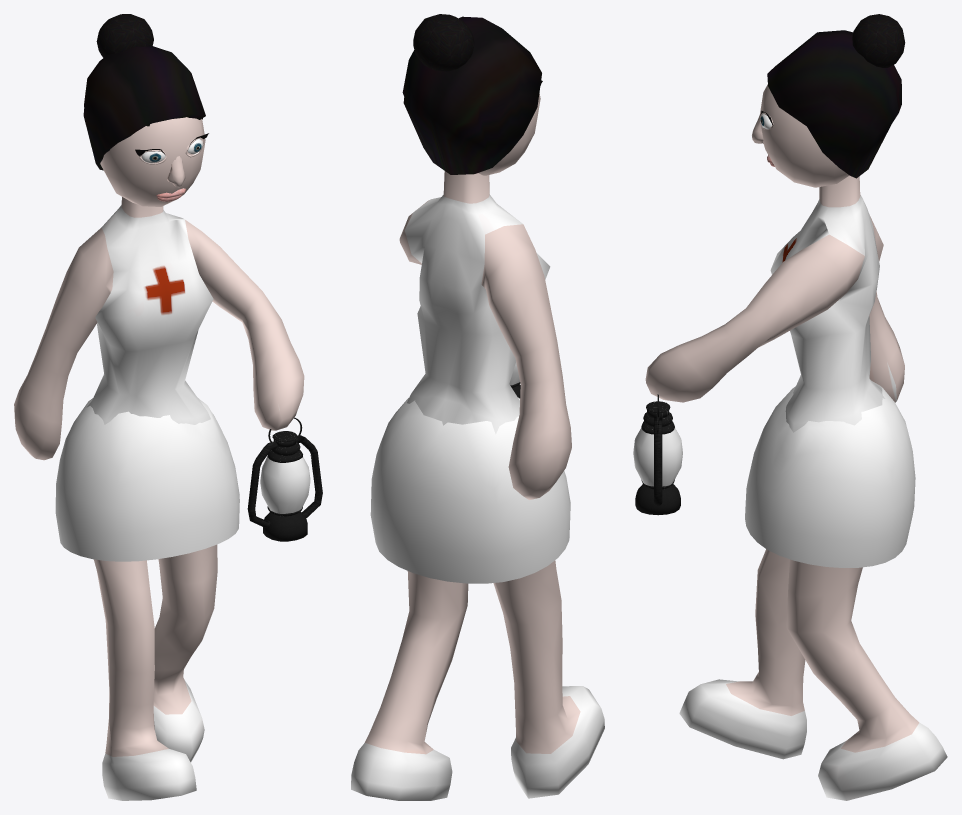
File: walking_000014.obj
The picture shows the model from 3 angles, left to right: view 1: azimuth 30°, elevation 25°; view 2: azimuth 150°, elevation 25°; view 3: azimuth 270°, elevation 25°; orthographic projection. The views are drawn at different scales.
Parts seen in each view (by area): view 1: Cube_Cube.001, Cube.001_Cube, Cube.004; view 2: Cube_Cube.001, Cube.001_Cube; view 3: Cube_Cube.001, Cube.001_Cube, Cube.004.
Boxes of the visible parts, x1,y1,x2,y2 form: Cube_Cube.001: (14, 14, 304, 800); Cube.001_Cube: (55, 397, 239, 561); Cube.004: (247, 417, 322, 541); Cube_Cube.001: (351, 14, 604, 800); Cube.001_Cube: (370, 397, 570, 583); Cube_Cube.001: (645, 14, 947, 800); Cube.001_Cube: (745, 381, 915, 567); Cube.004: (633, 394, 682, 515).
Size of the model in its own units: 0.5893 by 2.1 by 0.784.
